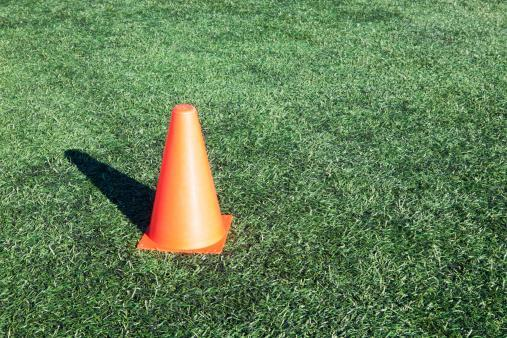Cone: (135, 102, 235, 258)
